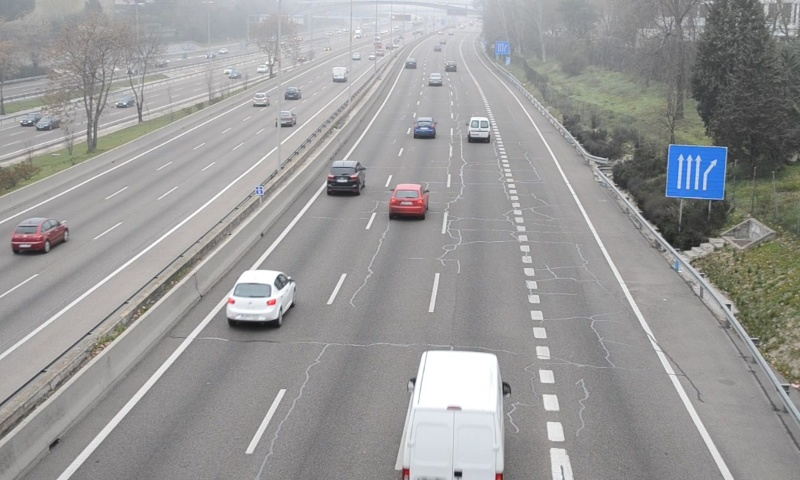car: (225, 270, 296, 322), (390, 182, 425, 218), (327, 160, 362, 194), (413, 116, 436, 138)
van: (396, 350, 504, 480), (467, 115, 491, 142)
